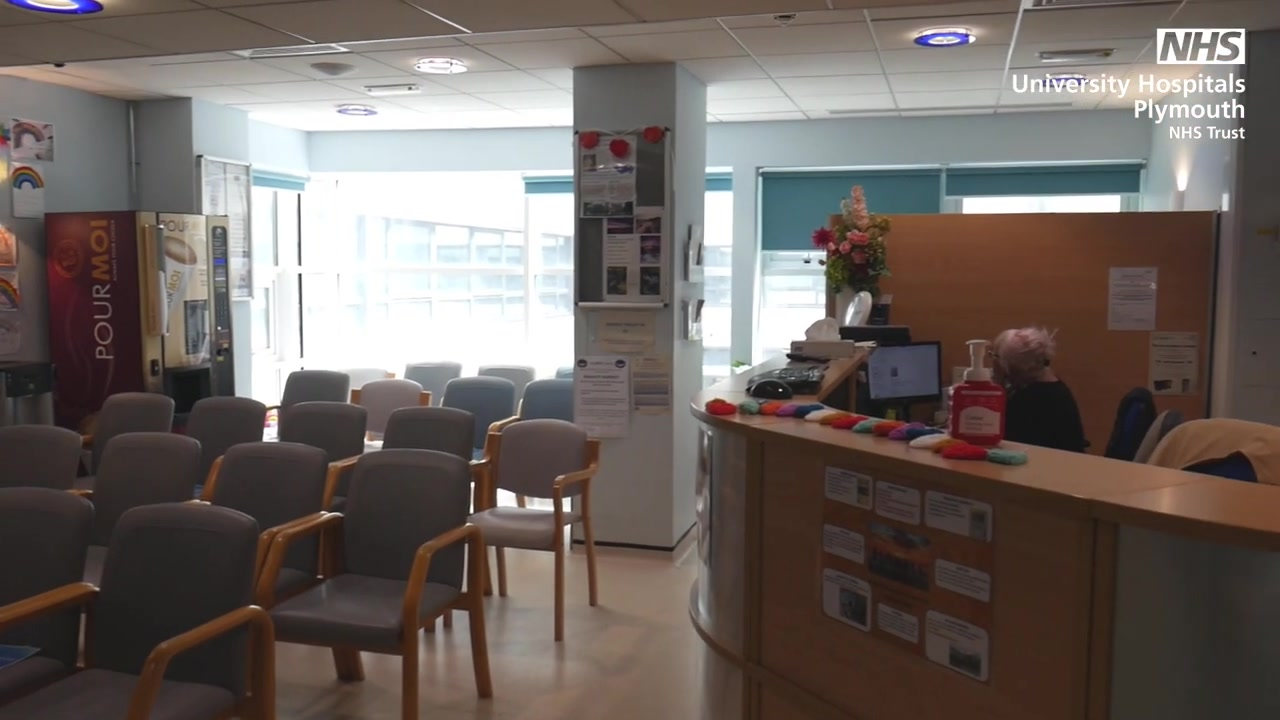chair: (252, 444, 496, 720), (1, 500, 276, 720), (442, 416, 603, 645), (202, 441, 331, 612), (1, 486, 96, 718), (74, 434, 203, 546), (437, 375, 526, 511), (274, 400, 367, 510), (1153, 417, 1280, 481), (82, 392, 175, 474), (185, 395, 267, 485), (1, 422, 82, 496), (349, 377, 434, 447), (382, 405, 476, 465), (266, 371, 350, 436), (1102, 387, 1155, 463), (519, 380, 576, 424)
computer: (864, 340, 947, 406)
counter: (682, 323, 1280, 720)
countertop: (691, 334, 1280, 551)
dispenser: (954, 340, 1008, 442)
mouse: (749, 378, 794, 400)
staff: (989, 327, 1089, 457)
